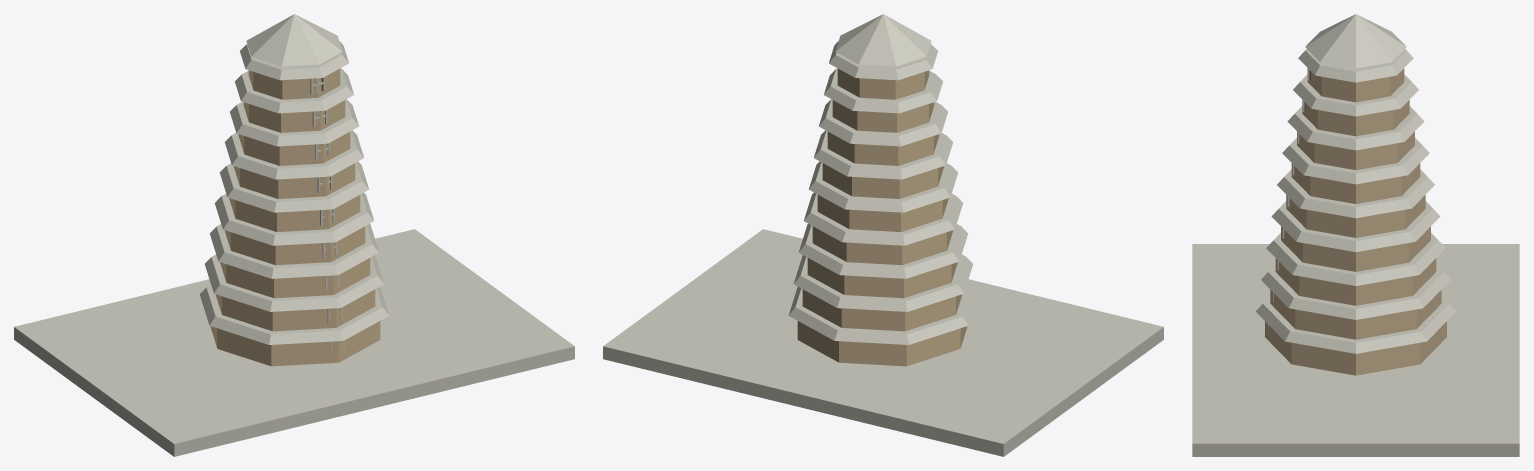
File: yanan_detail.glb
The picture shows the model from 3 angles, left to right: view 1: azimuth 30°, elevation 25°; view 2: azimuth 150°, elevation 25°; view 3: azimuth 270°, elevation 25°; orthographic projection. The views are drawn at different scales.
Parts seen in each view (by area): view 1: stone plinth, octagonal brick storey, pointed crown, brick eave, brick eave.001, octagonal brick storey.001, brick eave.002, octagonal brick storey.002, brick eave.003, octagonal brick storey.003, brick eave.004, brick eave.005 (+8 smaller); view 2: stone plinth, octagonal brick storey, pointed crown, brick eave, brick eave.001, octagonal brick storey.001, brick eave.002, octagonal brick storey.002, brick eave.003, octagonal brick storey.003, brick eave.004, octagonal brick storey.004 (+8 smaller); view 3: stone plinth, octagonal brick storey, pointed crown, brick eave, octagonal brick storey.001, brick eave.001, octagonal brick storey.002, brick eave.002, octagonal brick storey.003, brick eave.003, octagonal brick storey.004, brick eave.004 (+8 smaller).
Boxes of the visible parts, bbox=[...] form: stone plinth: bbox=[14, 229, 574, 456]; octagonal brick storey: bbox=[210, 321, 380, 366]; pointed crown: bbox=[246, 14, 342, 66]; brick eave: bbox=[199, 285, 389, 344]; brick eave.001: bbox=[205, 254, 383, 311]; octagonal brick storey.001: bbox=[215, 289, 375, 331]; brick eave.002: bbox=[209, 223, 379, 278]; octagonal brick storey.002: bbox=[220, 258, 370, 298]; brick eave.003: bbox=[214, 192, 373, 245]; octagonal brick storey.003: bbox=[224, 226, 365, 265]; brick eave.004: bbox=[219, 161, 369, 212]; brick eave.005: bbox=[224, 130, 363, 179]; stone plinth: bbox=[603, 229, 1163, 456]; octagonal brick storey: bbox=[797, 321, 967, 366]; pointed crown: bbox=[835, 14, 931, 66]; brick eave: bbox=[788, 285, 978, 344]; brick eave.001: bbox=[794, 254, 972, 311]; octagonal brick storey.001: bbox=[802, 289, 962, 331]; brick eave.002: bbox=[798, 223, 968, 278]; octagonal brick storey.002: bbox=[807, 258, 957, 298]; brick eave.003: bbox=[804, 192, 963, 245]; octagonal brick storey.003: bbox=[812, 226, 953, 265]; brick eave.004: bbox=[808, 161, 958, 212]; octagonal brick storey.004: bbox=[817, 195, 948, 231]; stone plinth: bbox=[1192, 244, 1519, 456]; octagonal brick storey: bbox=[1265, 321, 1446, 375]; pointed crown: bbox=[1305, 14, 1406, 68]; brick eave: bbox=[1256, 296, 1455, 353]; octagonal brick storey.001: bbox=[1270, 290, 1441, 339]; brick eave.001: bbox=[1261, 264, 1450, 319]; octagonal brick storey.002: bbox=[1275, 258, 1436, 305]; brick eave.002: bbox=[1266, 233, 1445, 285]; octagonal brick storey.003: bbox=[1281, 226, 1430, 271]; brick eave.003: bbox=[1271, 201, 1440, 251]; octagonal brick storey.004: bbox=[1286, 195, 1425, 237]; brick eave.004: bbox=[1277, 169, 1434, 218].
Bounding box in the file's own units: 6.5 × 5.2 × 4.5.
